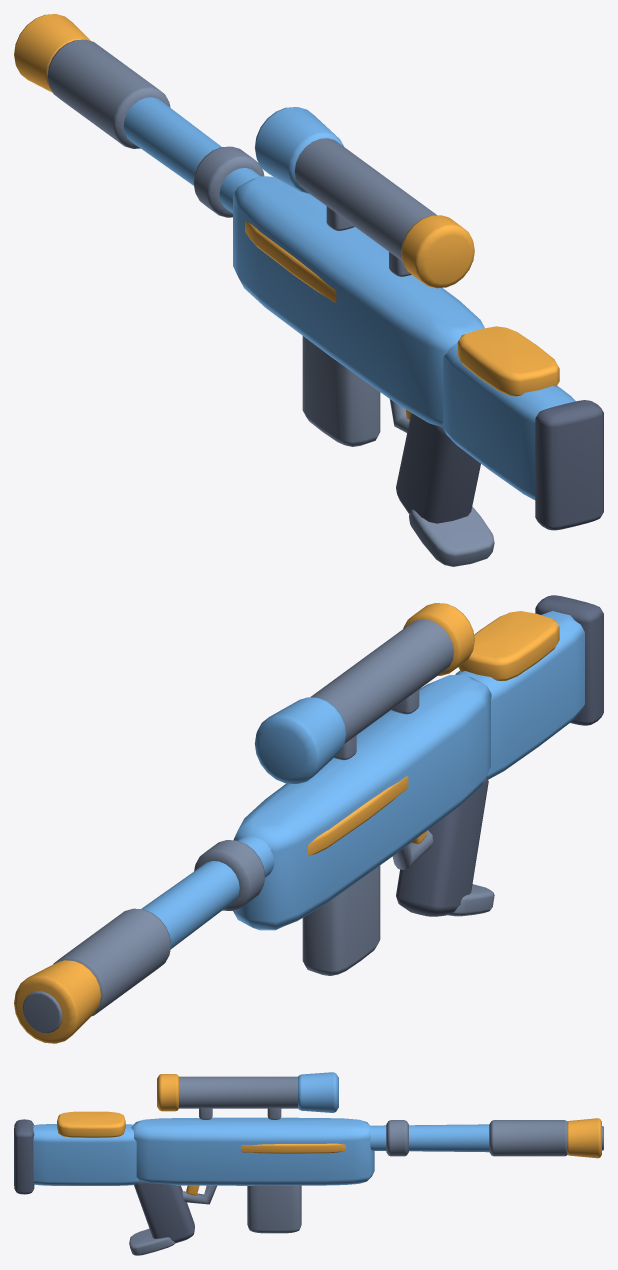
The model's file is whisper.glb.
3 views of the same model, one above another, from view 1: azimuth 30°, elevation 25°; view 2: azimuth 150°, elevation 25°; view 3: azimuth 270°, elevation 25° (orthographic). The views are drawn at different scales.
Parts seen in each view (by area): view 1: Mesh_Chassis_Body, Scope, Suppressor; view 2: Mesh_Chassis_Body, Scope, Suppressor; view 3: Mesh_Chassis_Body, Scope, Suppressor.
Part boxes in pixels (left/top/right/bottom): Mesh_Chassis_Body: left=123, top=97, right=603, bottom=566; Scope: left=254, top=107, right=474, bottom=288; Suppressor: left=14, top=14, right=170, bottom=148; Mesh_Chassis_Body: left=141, top=595, right=603, bottom=975; Scope: left=254, top=603, right=474, bottom=783; Suppressor: left=14, top=908, right=171, bottom=1043; Mesh_Chassis_Body: left=14, top=1111, right=489, bottom=1255; Scope: left=157, top=1072, right=338, bottom=1119; Suppressor: left=489, top=1118, right=603, bottom=1158.
Size of the model in its own units: 0.084 by 0.3417 by 1.03.
